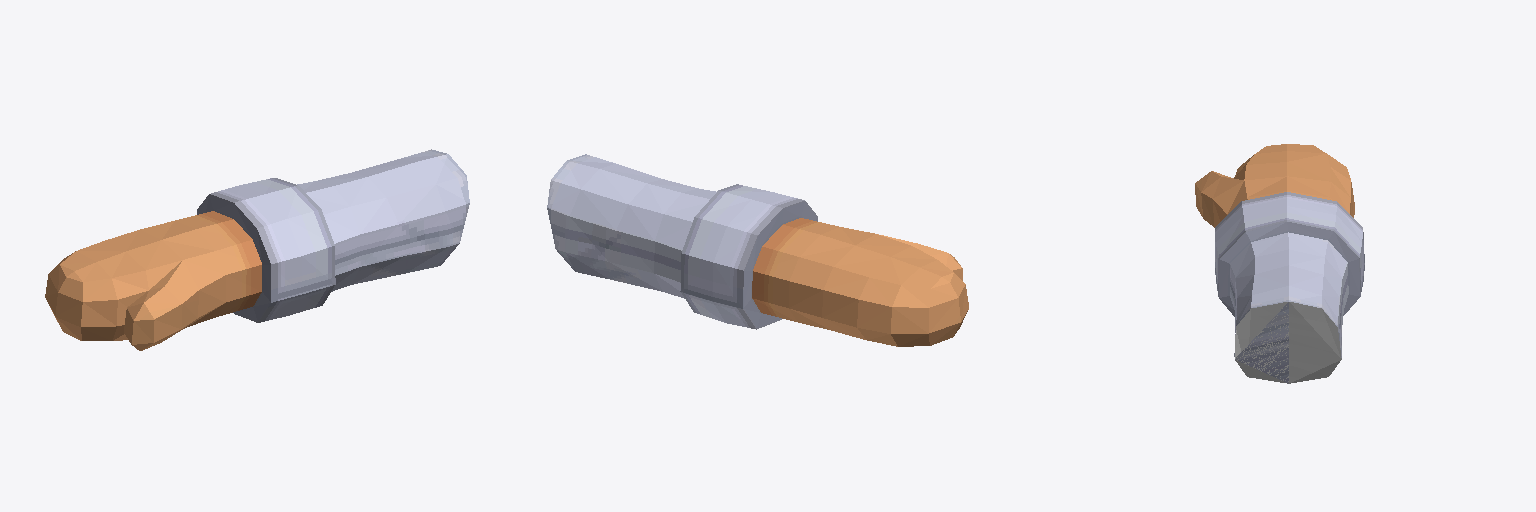
3 views of the same model, side by side, from view 1: azimuth 30°, elevation 25°; view 2: azimuth 150°, elevation 25°; view 3: azimuth 270°, elevation 25° (orthographic).
Parts seen in each view (by area): view 1: Mesh_0027.001; view 2: Mesh_0027.001; view 3: Mesh_0027.001, Mesh_0027.004.
Part boxes in pixels (bbox=[...]): Mesh_0027.001: bbox=[45, 149, 469, 350]; Mesh_0027.001: bbox=[547, 154, 968, 346]; Mesh_0027.001: bbox=[1195, 144, 1364, 383]; Mesh_0027.004: bbox=[1235, 302, 1341, 383].
Bounding box in the file's own units: 0.5884 × 0.1625 × 0.2199.
Materials: 2 (2 with a texture image).